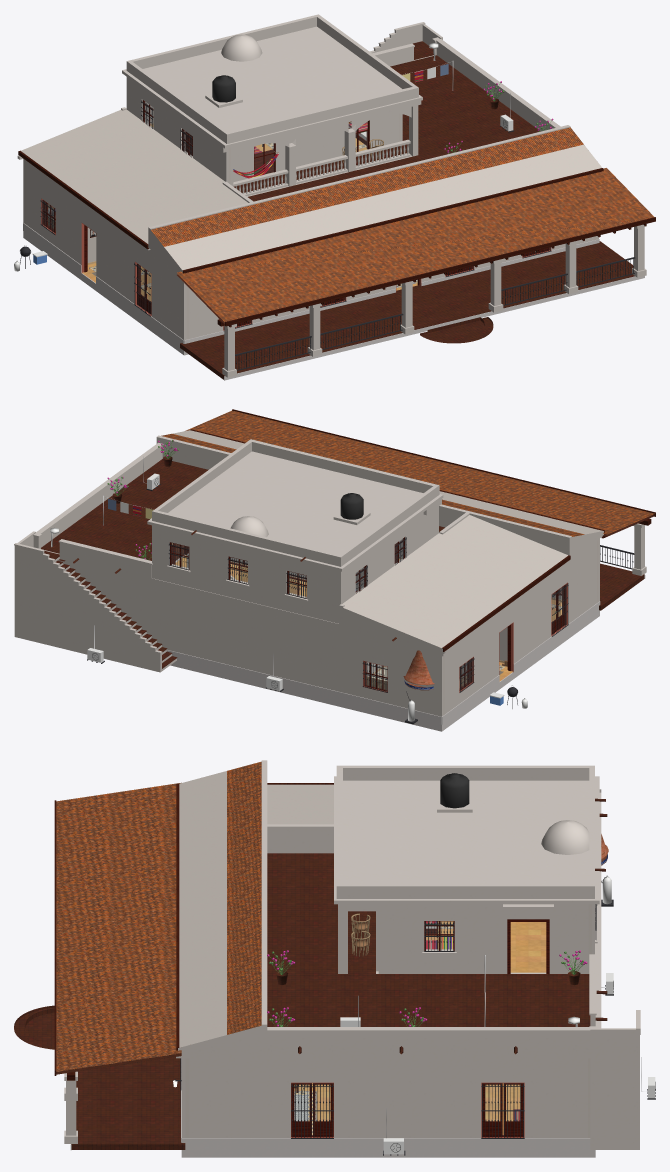
File: house.lo.glb
3 views of the same model, one above another, from view 1: azimuth 30°, elevation 25°; view 2: azimuth 150°, elevation 25°; view 3: azimuth 270°, elevation 25° (orthographic). The views are drawn at different scales.
Parts seen in each view (by area): view 1: House, HouseDetail, Grille_6; view 2: House, HouseDetail, Grille_6; view 3: House, HouseDetail, Grille_8, Grille_7, Leaf_7_L, Leaf_7_R, Leaf_8_R, Leaf_8_L.
Part boxes in pixels (x1=…): House: x1=17, y1=14, x2=655, y2=380; HouseDetail: x1=14, y1=43, x2=633, y2=369; Grille_6: x1=134, y1=262, x2=150, y2=316; House: x1=14, y1=409, x2=655, y2=731; HouseDetail: x1=50, y1=439, x2=633, y2=724; Grille_6: x1=552, y1=583, x2=568, y2=636; House: x1=14, y1=760, x2=640, y2=1157; HouseDetail: x1=173, y1=798, x2=655, y2=1155; Grille_8: x1=481, y1=1083, x2=524, y2=1138; Grille_7: x1=291, y1=1083, x2=333, y2=1138; Leaf_7_L: x1=313, y1=1083, x2=332, y2=1137; Leaf_7_R: x1=292, y1=1083, x2=311, y2=1137; Leaf_8_R: x1=483, y1=1083, x2=502, y2=1137; Leaf_8_L: x1=503, y1=1083, x2=522, y2=1137.
Bounding box in the file's own units: 27.76 × 9.26 × 25.27.
Materials: 89 (41 with a texture image).
